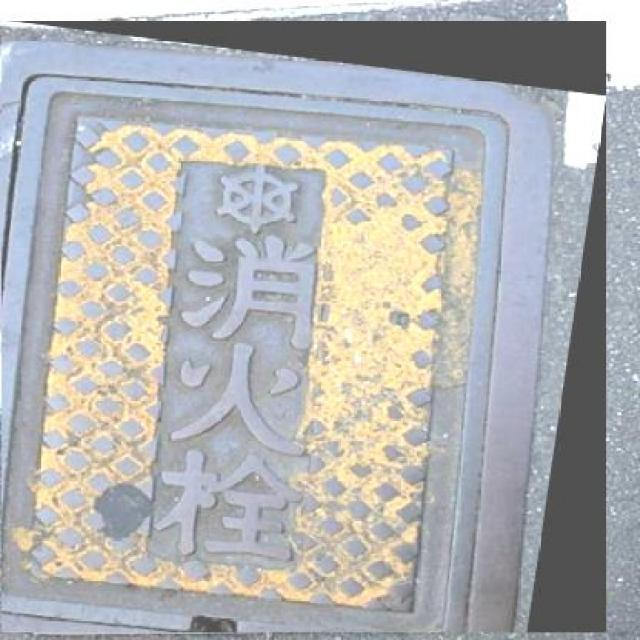Manhole: (1, 20, 606, 632)
